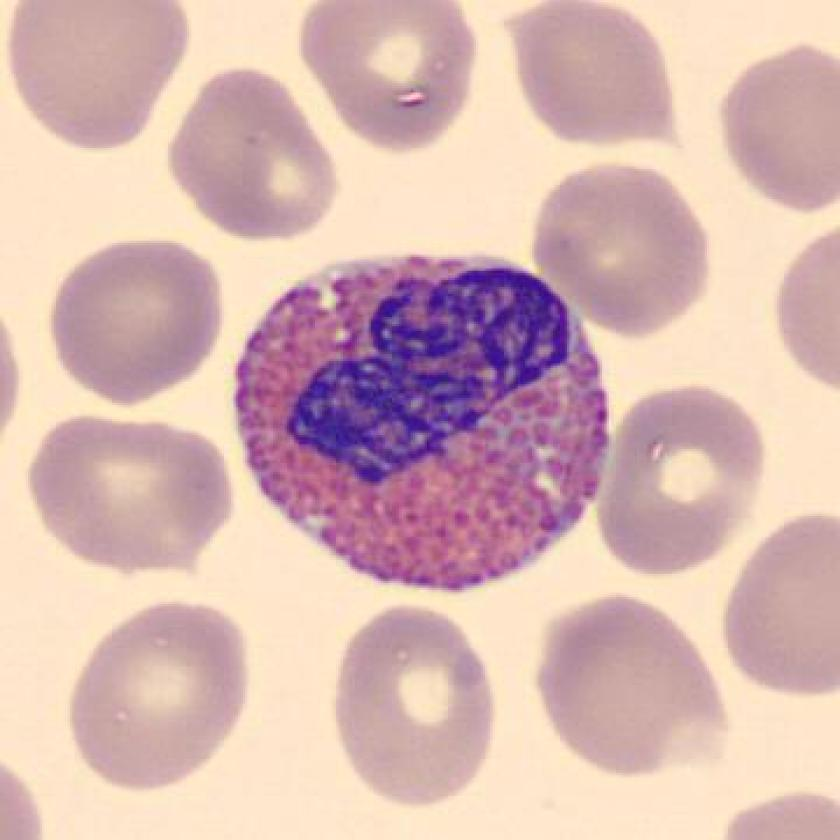eosinophil: (225, 235, 629, 607)
